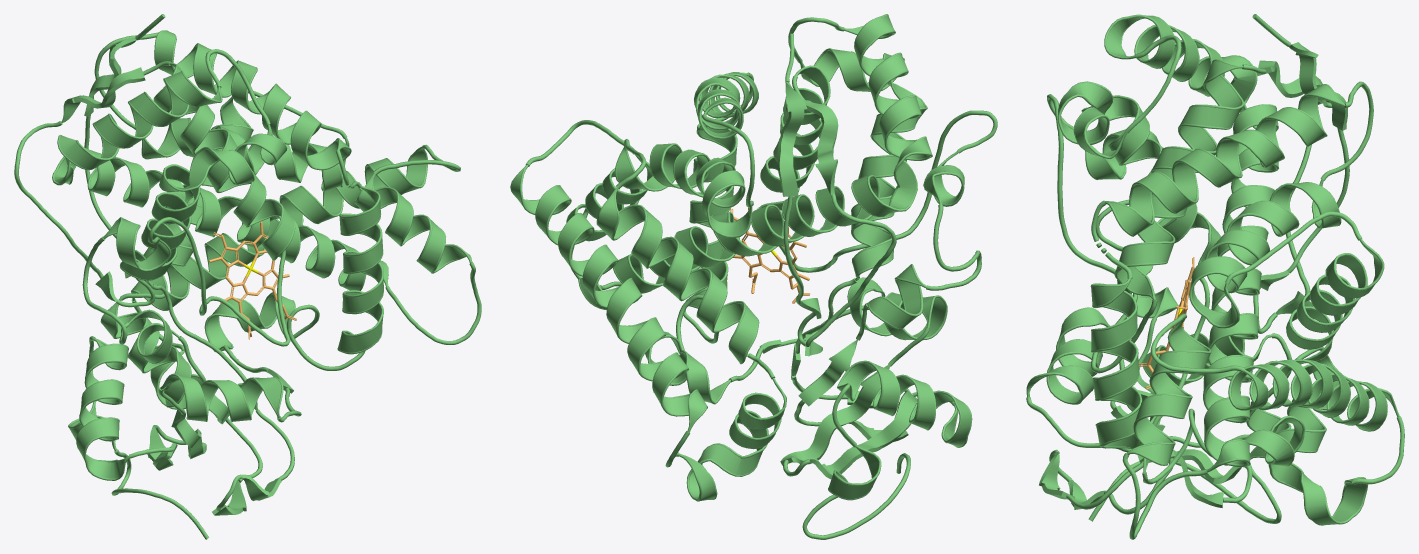
The model's file is enzymegreen.glb.
3 views of the same model, side by side, from view 1: azimuth 30°, elevation 25°; view 2: azimuth 150°, elevation 25°; view 3: azimuth 270°, elevation 25° (orthographic). The views are drawn at different scales.
Visible parts, largest first — view 1: node-geom71, node-geom69, node-geom73, node-geom70, node-geom72; view 2: node-geom71, node-geom70, node-geom69, node-geom73, node-geom72; view 3: node-geom70, node-geom71, node-geom69, node-geom73, node-geom72.
Part boxes in pixels (x1,y1,x2,y2): node-geom71: (52, 71, 481, 409); node-geom69: (68, 186, 383, 539); node-geom73: (14, 14, 295, 515); node-geom70: (94, 30, 383, 406); node-geom72: (52, 49, 388, 514); node-geom71: (510, 14, 931, 501); node-geom70: (596, 72, 786, 500); node-geom69: (645, 123, 972, 539); node-geom73: (757, 33, 997, 441); node-geom72: (578, 14, 932, 438); node-geom70: (1091, 81, 1384, 525); node-geom71: (1104, 15, 1404, 539); node-geom69: (1026, 278, 1305, 523); node-geom73: (1047, 14, 1349, 514); node-geom72: (1039, 14, 1278, 509).
Size of the model in its own units: 55.41 by 63.5 by 41.3.
